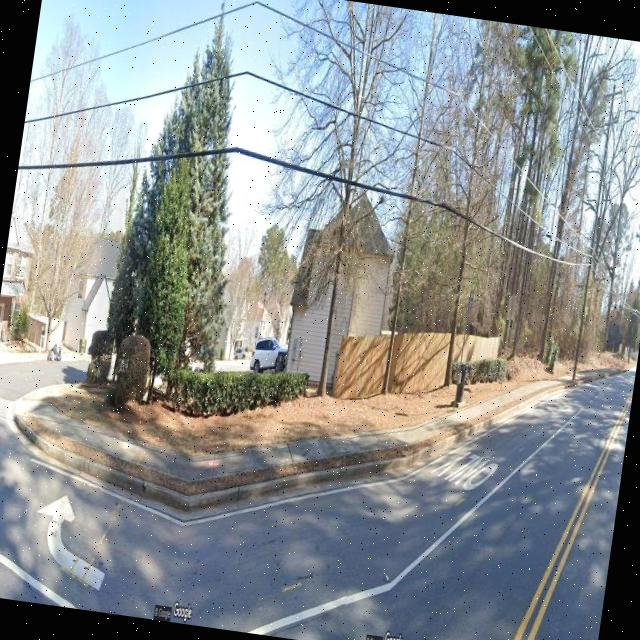trash_can: (454, 363, 468, 403)
